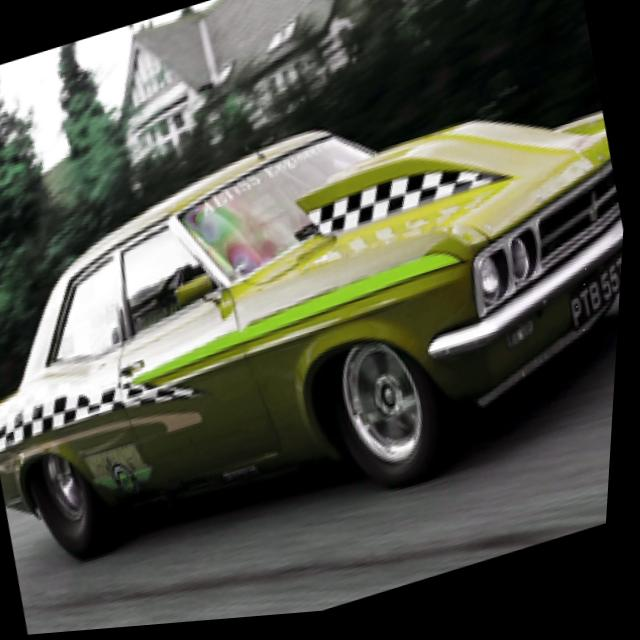license_plate: (565, 256, 626, 344)
